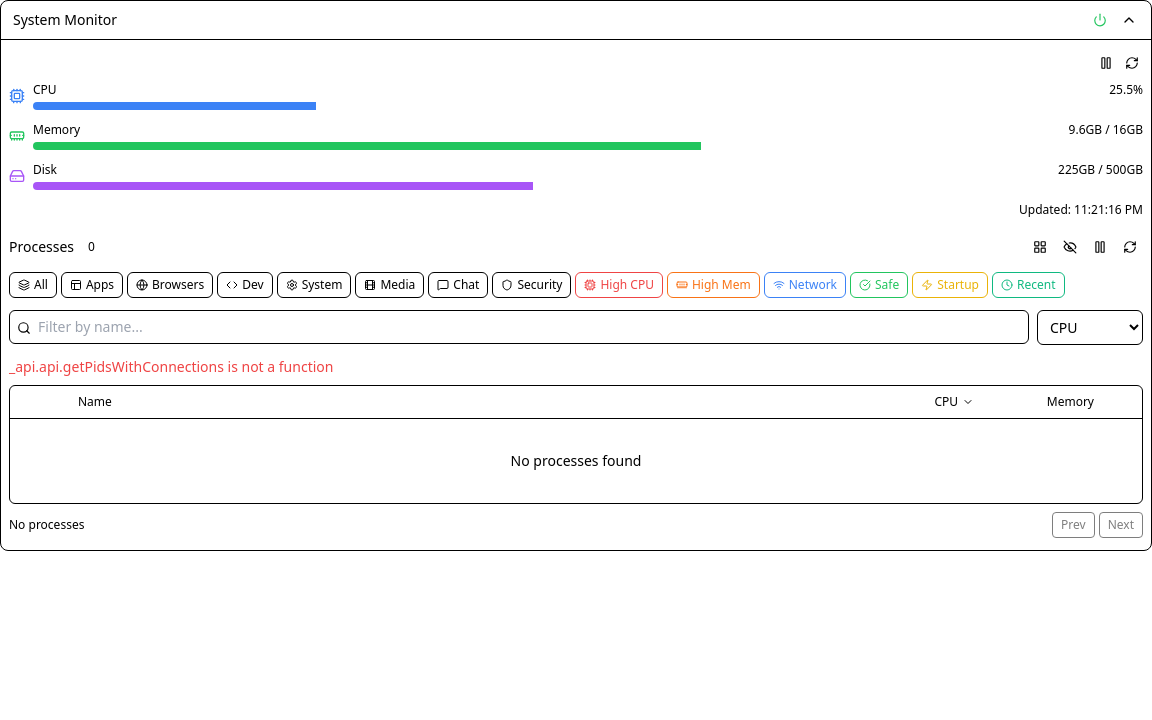
SystemMonitor › power button click does not collapse the card
Expected: the text "Processes" is shown, [9,237,74,257]
Note: Click power button
Click the button titled "Turn off monitoring" at (1100, 20), box [1089,9,1111,31]
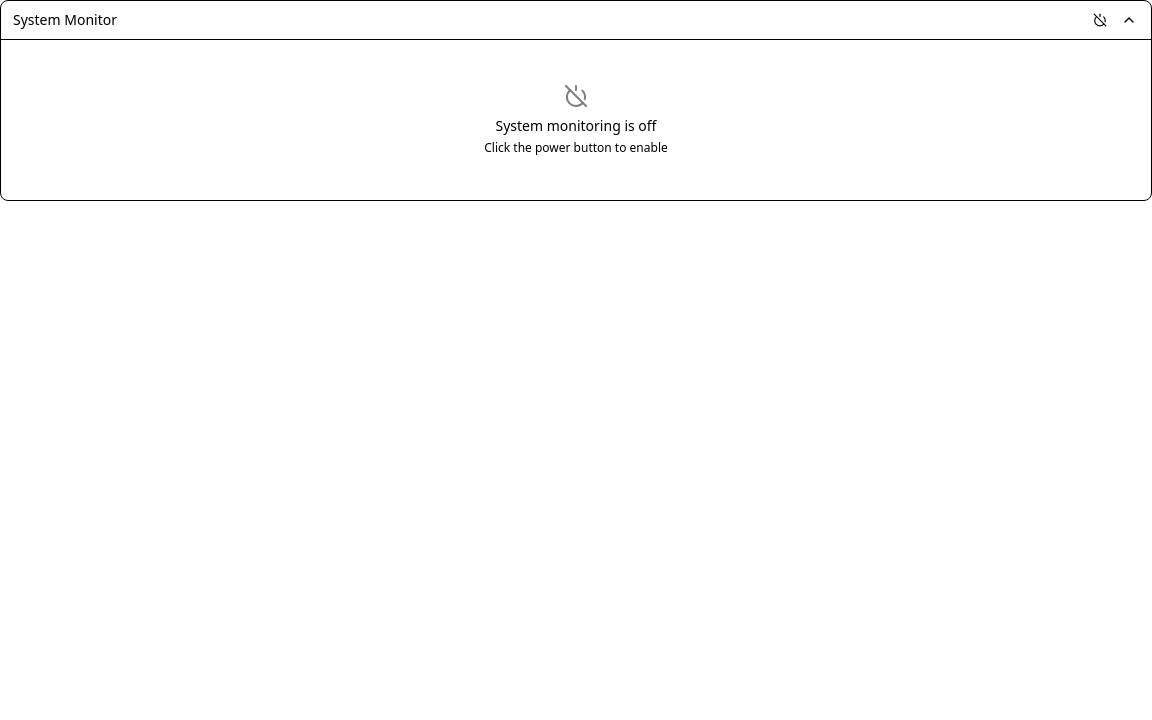
Now the text "System monitoring is off" is shown, box [496,116,656,135]
